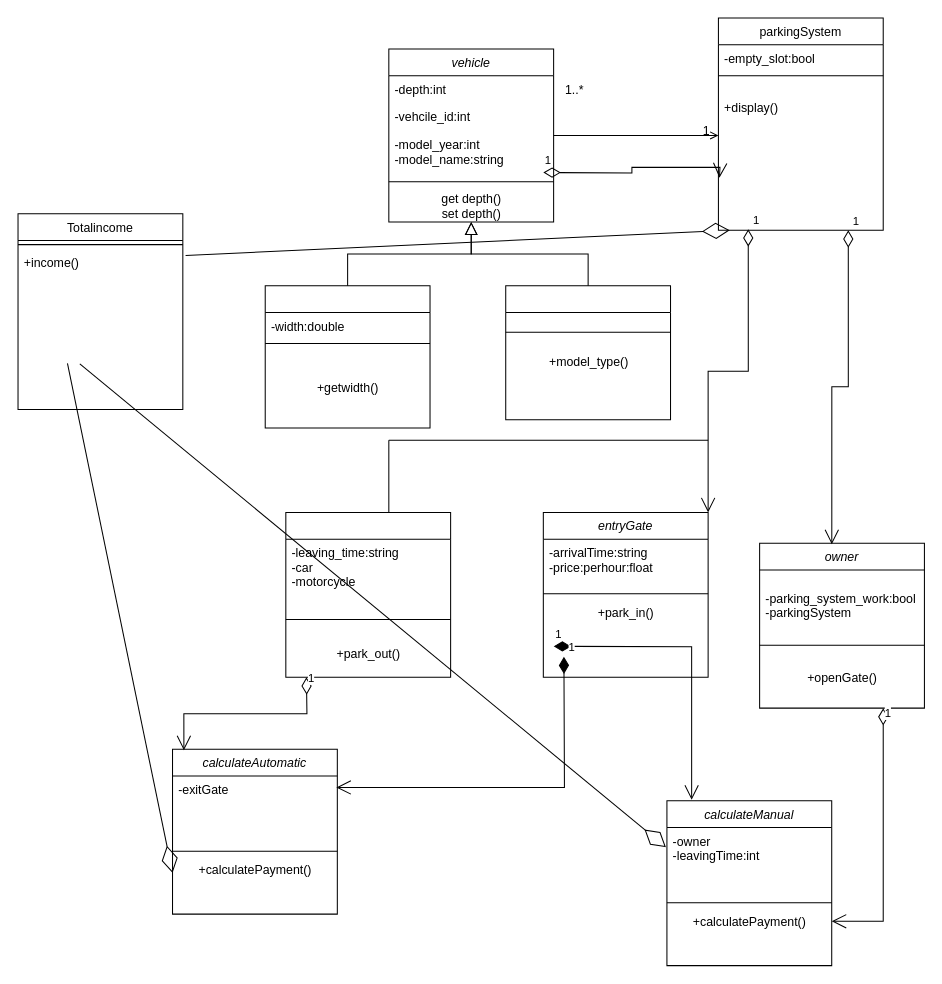
This 942x984 diagram has some shape labels left out. Here are the shapes that lost their labels. From the top down, the box of each, then its label:
(264, 285, 430, 428): car
(505, 285, 671, 420): motorcycle
(285, 511, 451, 677): exitGate
